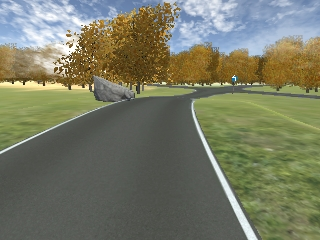left: (230, 76, 238, 83)
